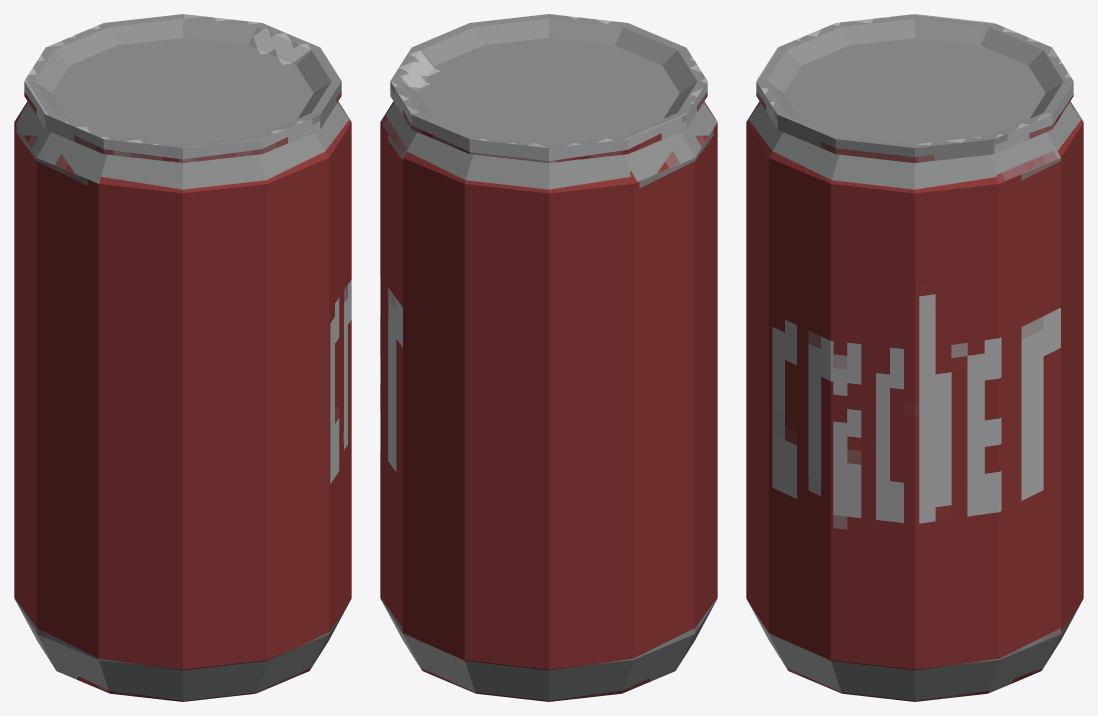
File: coke_can.glb
3 renders of one model, left to right at view 1: azimuth 30°, elevation 25°; view 2: azimuth 150°, elevation 25°; view 3: azimuth 270°, elevation 25°, orthographic.
Visible parts, largest first — view 1: Cylinder.038; view 2: Cylinder.038; view 3: Cylinder.038.
Part boxes in pixels (<box>): Cylinder.038: <box>14,14,351,701</box>; Cylinder.038: <box>380,14,717,701</box>; Cylinder.038: <box>746,14,1083,701</box>.
Bounding box in the file's own units: 0.0754 × 0.1379 × 0.0754.
Materials: 1 (1 with a texture image).
